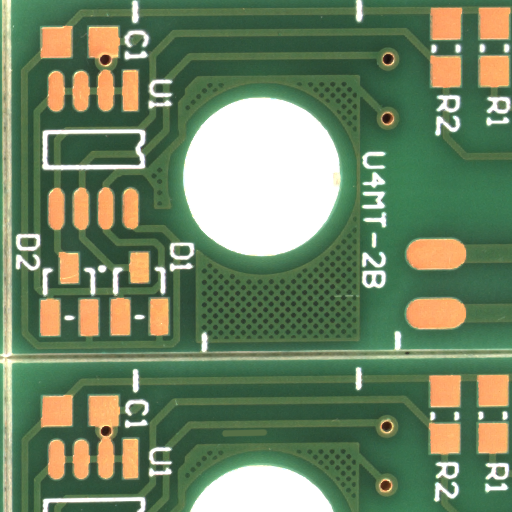Spurious_copper: (244, 432, 293, 443)
